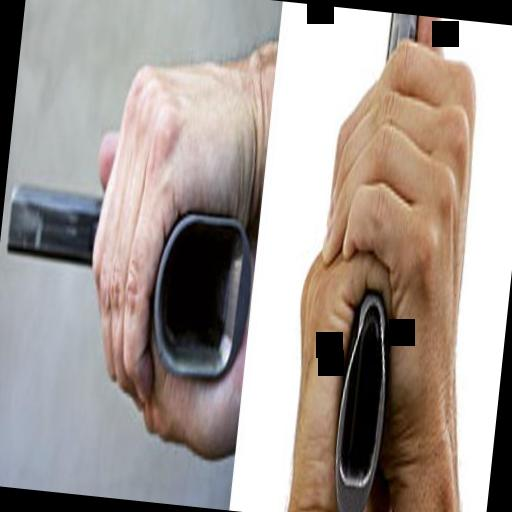Handgun: (319, 13, 437, 512), (0, 169, 256, 392)
